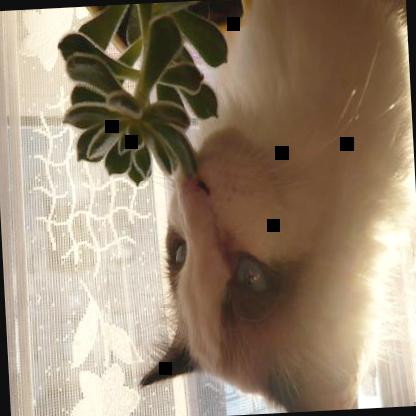cat: (120, 0, 415, 415)
